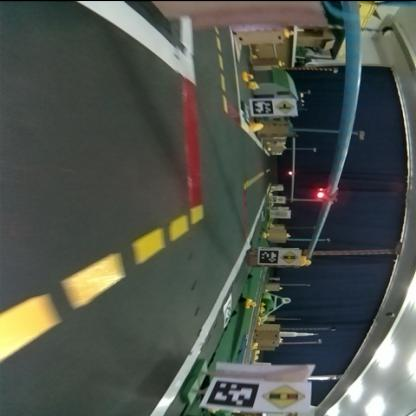Duckie: (250, 121, 264, 131), (302, 258, 312, 264), (243, 73, 253, 79), (249, 300, 257, 306), (250, 82, 258, 88), (278, 60, 286, 66), (285, 29, 292, 35)
Intersection sign: (276, 102, 296, 114)
QR code: (207, 381, 256, 407), (225, 292, 233, 326), (254, 100, 273, 113), (261, 250, 279, 262)
Signal sign: (266, 384, 308, 410), (282, 251, 300, 263)
Traffic light: (319, 188, 338, 200)
